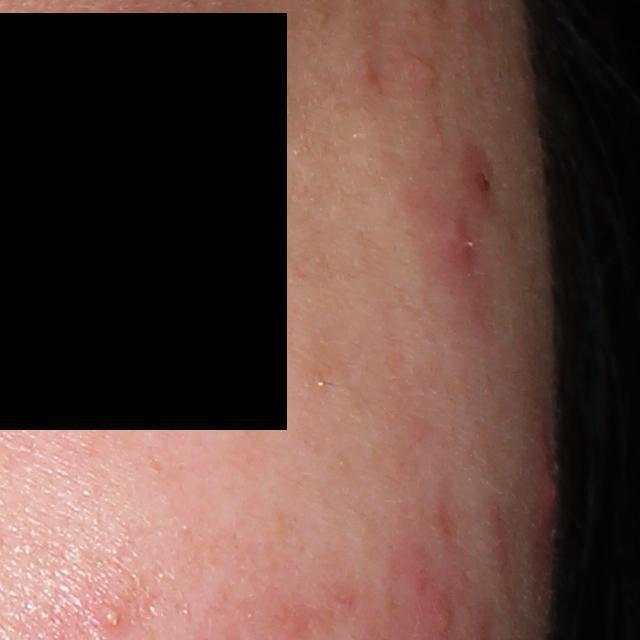papule: (461, 141, 495, 214), (406, 54, 438, 90)
pustule: (105, 606, 121, 626)
